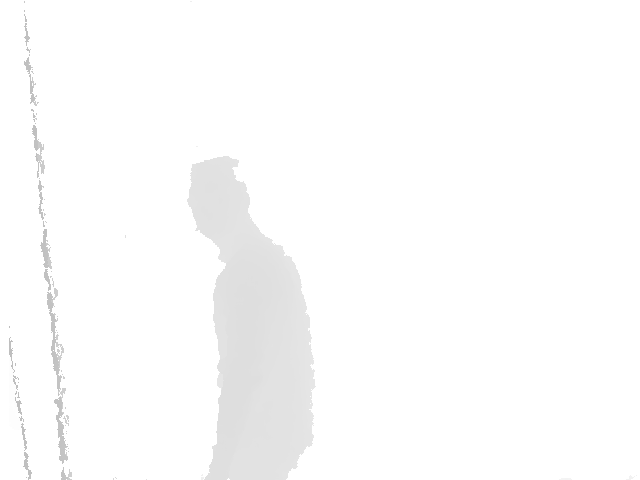head: (186, 156, 251, 247)
person: (185, 155, 316, 480)
